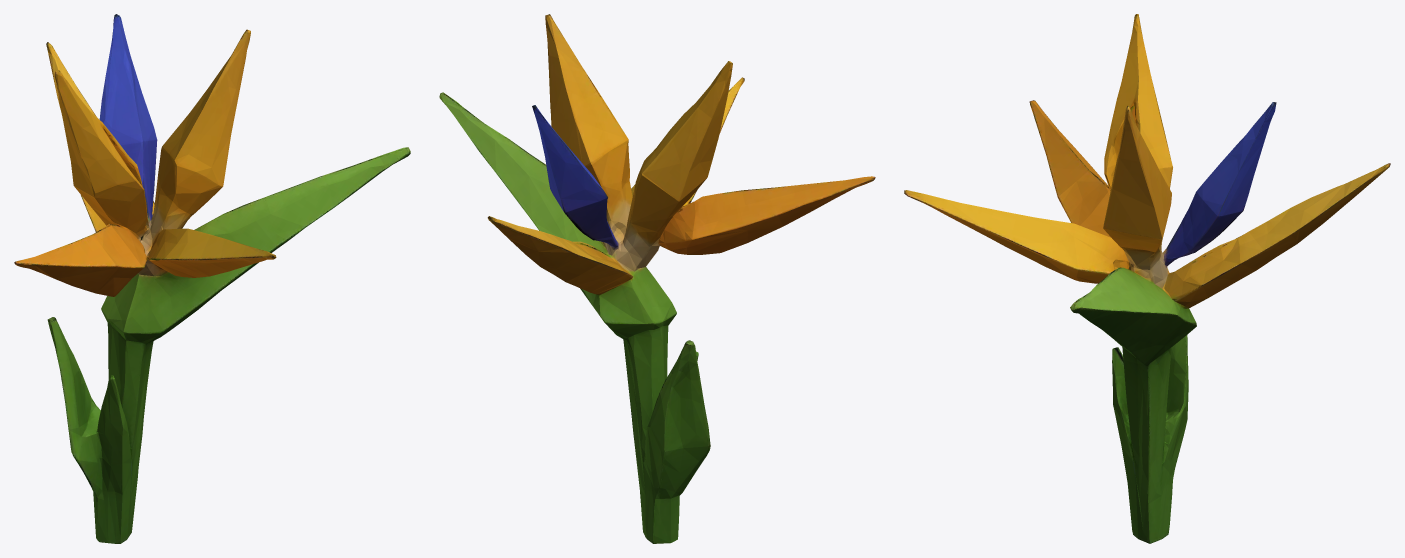
File: bird_of_paradise_flower.glb
3 renders of one model, left to right at view 1: azimuth 30°, elevation 25°; view 2: azimuth 150°, elevation 25°; view 3: azimuth 270°, elevation 25°, orthographic.
Visible parts, largest first — view 1: world; view 2: world; view 3: world.
Part boxes in pixels (x1,y1,x2,y2): world: [14, 14, 410, 543]; world: [439, 14, 875, 543]; world: [904, 14, 1390, 543].
Size of the model in its own units: 0.8947 by 1 by 0.8985.
1 material, 1 textured.
